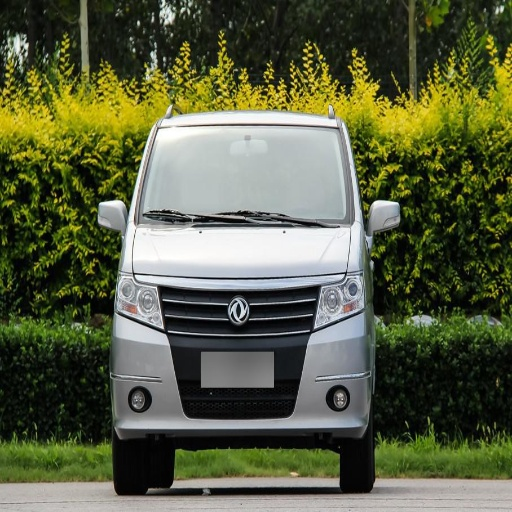front_bumper: (115, 274, 374, 436)
front_right_light: (117, 270, 161, 329)
hood: (132, 224, 351, 276)
left_mirror: (366, 200, 402, 234)
